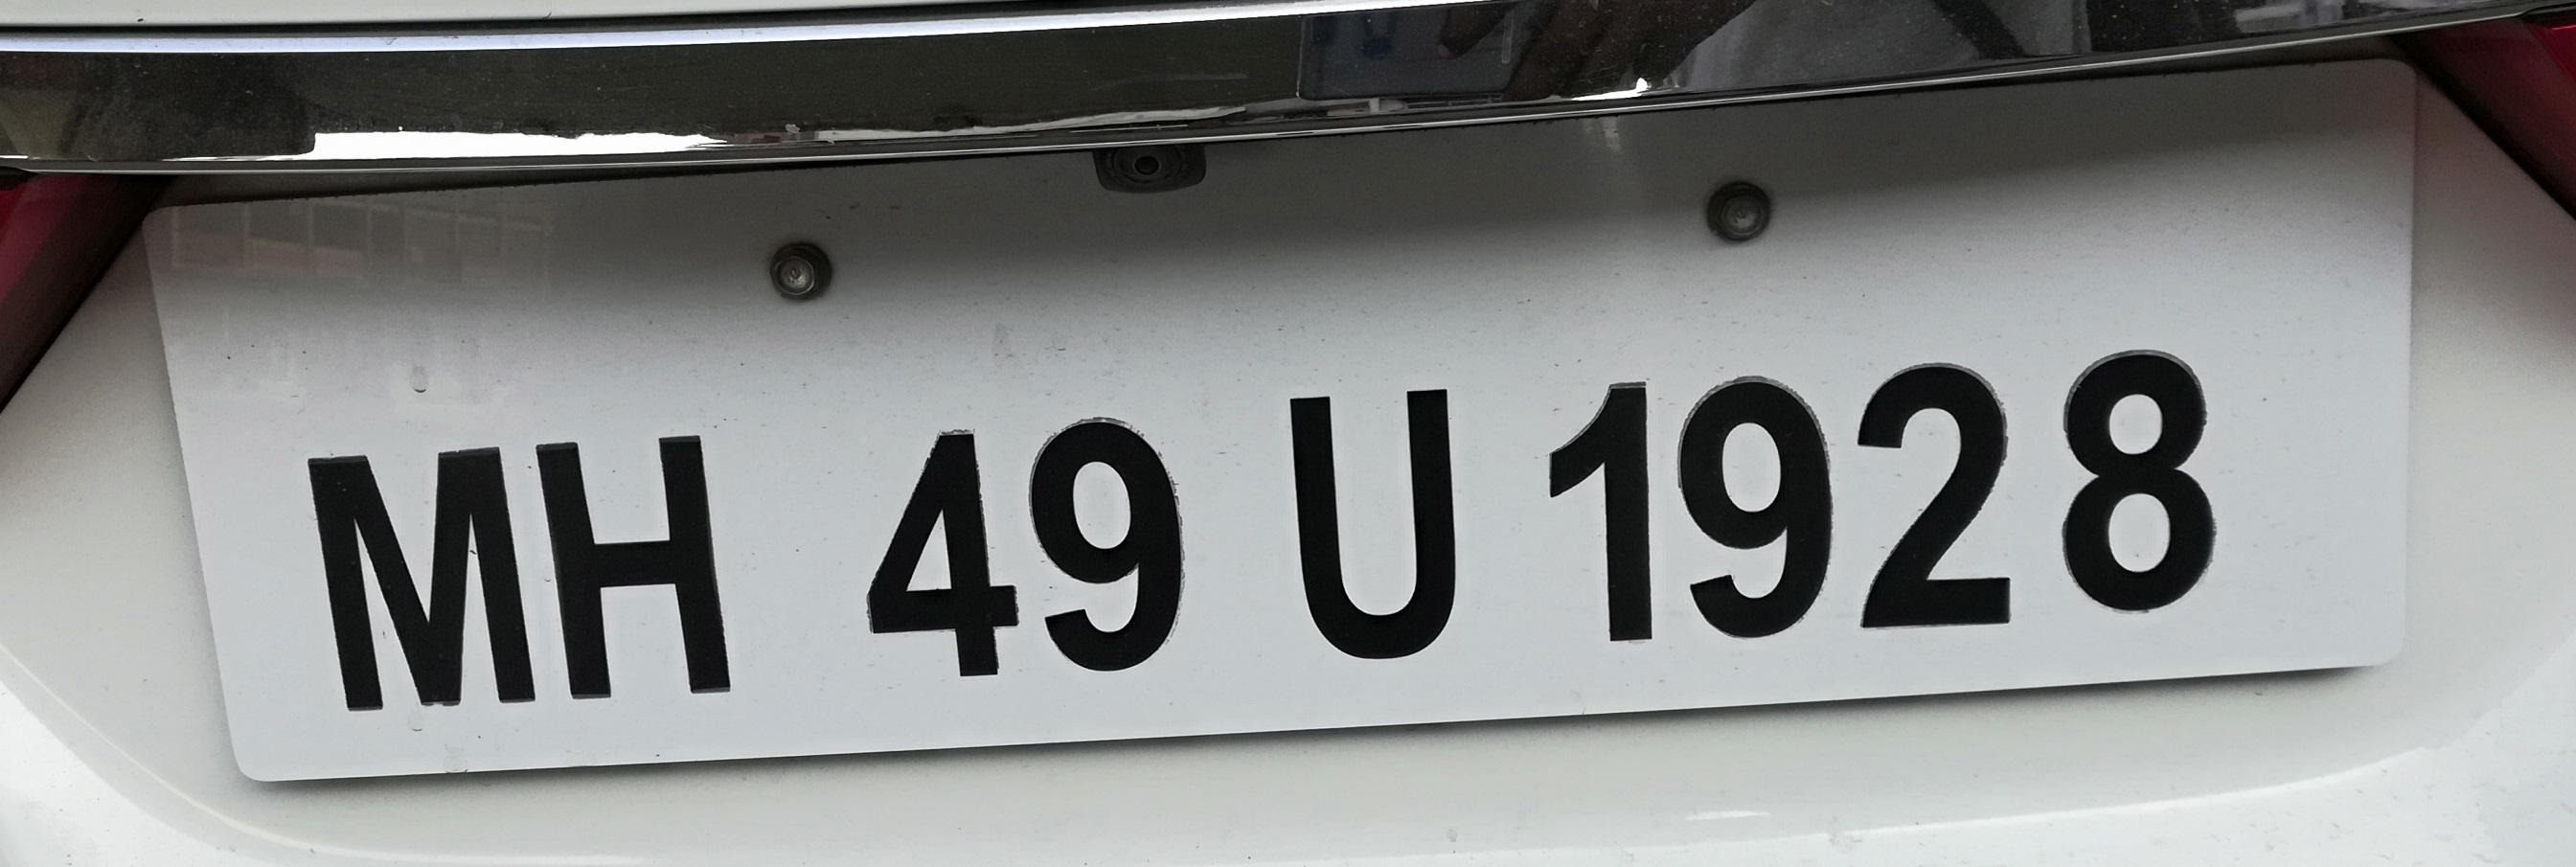numberplate: (126, 50, 2429, 802)
